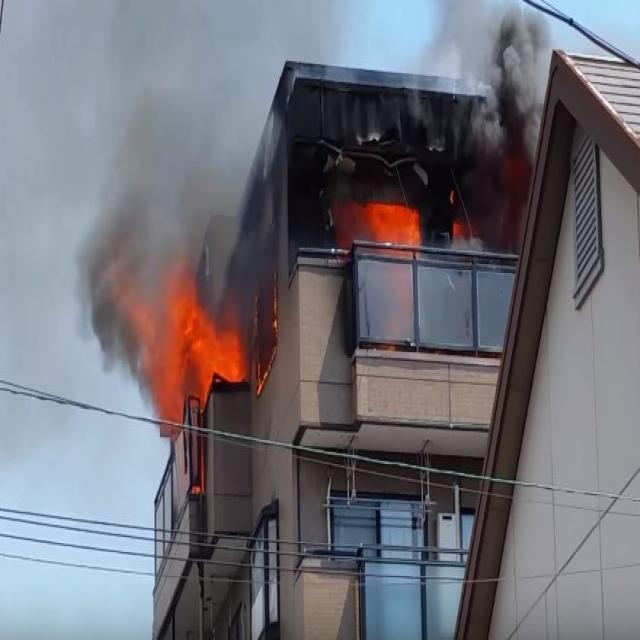Fire: (119, 264, 246, 438), (254, 231, 278, 395), (332, 202, 420, 246)
Smoke: (2, 2, 329, 221), (426, 0, 554, 234), (2, 222, 118, 468)
